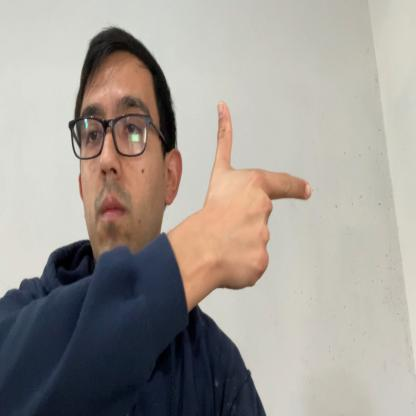G: (210, 99, 311, 291)
